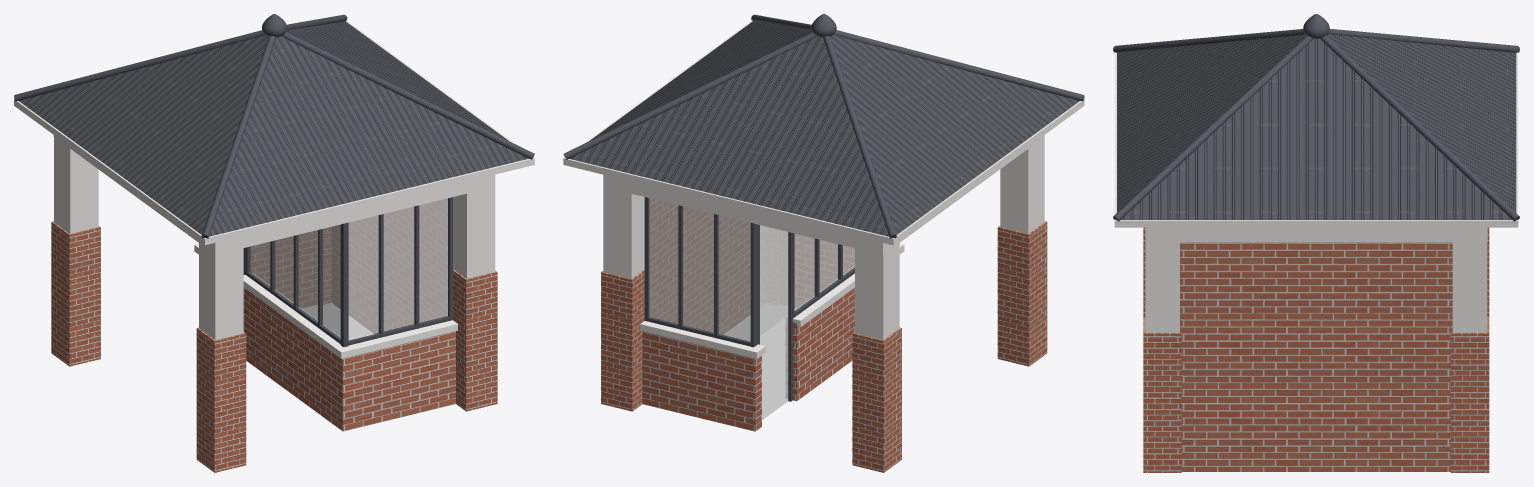
The model's file is building.glb.
The picture shows the model from 3 angles, left to right: view 1: azimuth 30°, elevation 25°; view 2: azimuth 150°, elevation 25°; view 3: azimuth 270°, elevation 25°; orthographic projection. The views are drawn at different scales.
Visible parts, largest first — view 1: Pyramid02.001, Pyramid02.002, Rectangle4957, BO 01, Box130, Rectangle4958, Rectangle4952, Rectangle4954, Rectangle4960, Pyramid02.004, Rectangle4955, Box127 (+12 smaller); view 2: Pyramid02.003, Pyramid02.002, BO 01, Rectangle4957, Box130, Rectangle4958, Rectangle4952, Rectangle4953, Box142, Rectangle4960, Pyramid02.004, Rectangle4955 (+11 smaller); view 3: Box130, Pyramid02.004, Pyramid02.003, Pyramid02.001, Rectangle4953, Rectangle4954, Rectangle4955, Rectangle4960, Box129, Box128, Cylinder38, Cylinder37 (+3 smaller).
Boxes of the visible parts, x1,y1,x2,y2 form: Pyramid02.001: [209, 36, 528, 236]; Pyramid02.002: [19, 35, 268, 234]; Rectangle4957: [243, 230, 455, 431]; BO 01: [250, 198, 447, 339]; Box130: [332, 198, 447, 333]; Rectangle4958: [196, 327, 246, 472]; Rectangle4952: [51, 221, 100, 366]; Rectangle4954: [453, 269, 497, 411]; Rectangle4960: [14, 20, 534, 245]; Pyramid02.004: [286, 21, 508, 140]; Rectangle4955: [53, 135, 495, 254]; Box127: [199, 243, 243, 340]; Pyramid02.003: [569, 36, 889, 236]; Pyramid02.002: [830, 35, 1079, 234]; BO 01: [649, 198, 854, 341]; Rectangle4957: [642, 234, 854, 431]; Box130: [650, 198, 750, 334]; Rectangle4958: [997, 221, 1047, 366]; Rectangle4952: [852, 327, 901, 472]; Rectangle4953: [601, 267, 650, 411]; Box142: [760, 225, 788, 419]; Rectangle4960: [563, 20, 1084, 245]; Pyramid02.004: [590, 21, 812, 140]; Rectangle4955: [603, 135, 1044, 254]; Box130: [1180, 242, 1452, 471]; Pyramid02.004: [1121, 39, 1511, 219]; Pyramid02.003: [1327, 34, 1516, 212]; Pyramid02.001: [1117, 34, 1306, 212]; Rectangle4953: [1450, 317, 1489, 472]; Rectangle4954: [1143, 317, 1181, 472]; Rectangle4955: [1145, 227, 1487, 242]; Rectangle4960: [1114, 52, 1518, 227]; Box129: [1452, 242, 1487, 332]; Box128: [1145, 242, 1179, 332]; Cylinder38: [1113, 35, 1313, 221]; Cylinder37: [1320, 35, 1519, 221].
Size of the model in its own units: 52.97 by 55.39 by 52.97.
5 materials, 3 textured.
